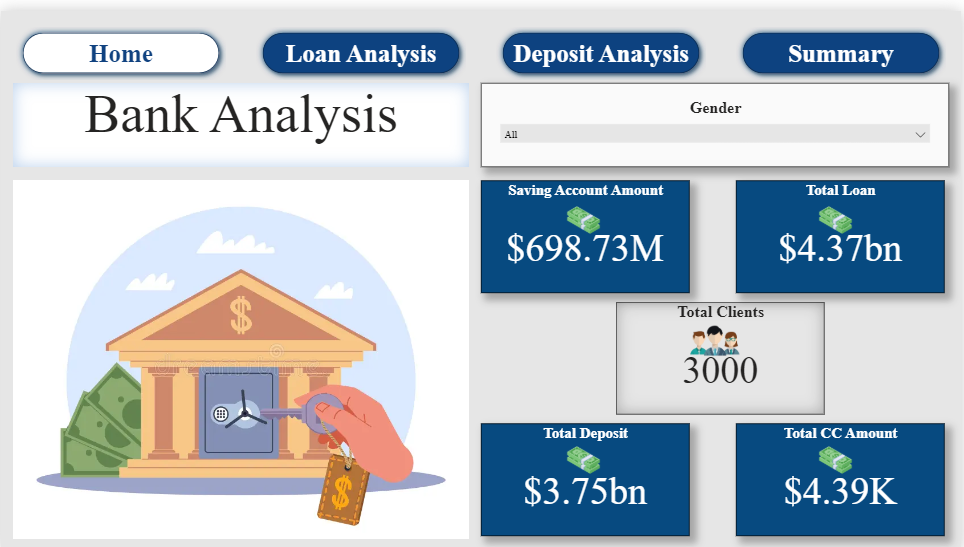

The dashboard page shown, as its layout file describes it:
{"tool":"powerbi","page":{"name":"Home","canvas":[1280,720],"ordinal":0},"visuals":[{"type":"slicer","title":"Gender","fields":{"Values":["Clients - Banking.Gender"]},"box":[640,96,624,112],"z":0},{"type":"card","title":"Saving Account Amount","fields":{"Values":["Banking Relationship.Saving Account Amount"]},"box":[640.6,225.4,277.8,150.2],"z":1000},{"type":"shape","box":[0,19,320,72],"z":2000},{"type":"card","title":"Total Loan","fields":{"Values":["Banking Relationship.Total Loan"]},"box":[979.4,225.4,277.8,150.2],"z":3000},{"type":"card","title":"Total Clients","fields":{"Values":["CountNonNull(Clients - Banking.Client ID)"]},"box":[820.6,388.3,277.8,150.2],"z":4000},{"type":"card","title":"Total Deposit","fields":{"Values":["Banking Relationship.Total Deposit"]},"box":[640.6,549.9,277.8,150.2],"z":5000},{"type":"card","title":"Total CC Amount","fields":{"Values":["Banking Relationship.Total CC Amount"]},"box":[979.4,549.9,277.8,150.2],"z":6000},{"type":"shape","box":[960,19,320,72],"z":7000},{"type":"image","box":[880,416,145,45],"z":8000},{"type":"image","box":[704,256,145,45],"z":9000},{"type":"image","box":[1040,256,145,45],"z":10000},{"type":"textbox","box":[16,96,608,112],"z":11000},{"type":"image","box":[704,576,145,45],"z":12000},{"type":"image","box":[1040,576,145,45],"z":13000},{"type":"shape","box":[640,19,320,72],"z":14000},{"type":"shape","box":[320,19,320,72],"z":15000},{"type":"image","box":[16,224,608,480],"z":16000}]}

Visuals, with their boxes in screenshot pixels (x1, y1, x2, y2), scaled from the page's 1280x720 canvas onto the 964x547 screenshot:
"Gender" slicer: x1=482 y1=73 x2=952 y2=158
"Saving Account Amount" card: x1=482 y1=171 x2=692 y2=285
shape: x1=0 y1=14 x2=241 y2=69
"Total Loan" card: x1=738 y1=171 x2=947 y2=285
"Total Clients" card: x1=618 y1=295 x2=827 y2=409
"Total Deposit" card: x1=482 y1=418 x2=692 y2=532
"Total CC Amount" card: x1=738 y1=418 x2=947 y2=532
shape: x1=723 y1=14 x2=963 y2=69
image: x1=663 y1=316 x2=772 y2=350
image: x1=530 y1=194 x2=639 y2=229
image: x1=783 y1=194 x2=892 y2=229
textbox: x1=12 y1=73 x2=470 y2=158
image: x1=530 y1=438 x2=639 y2=472
image: x1=783 y1=438 x2=892 y2=472
shape: x1=482 y1=14 x2=723 y2=69
shape: x1=241 y1=14 x2=482 y2=69
image: x1=12 y1=170 x2=470 y2=535
